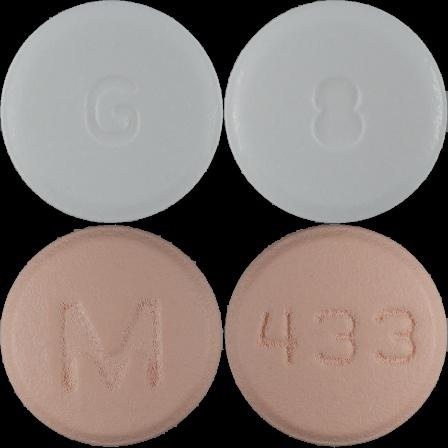43063-273: (0, 0, 224, 224)
